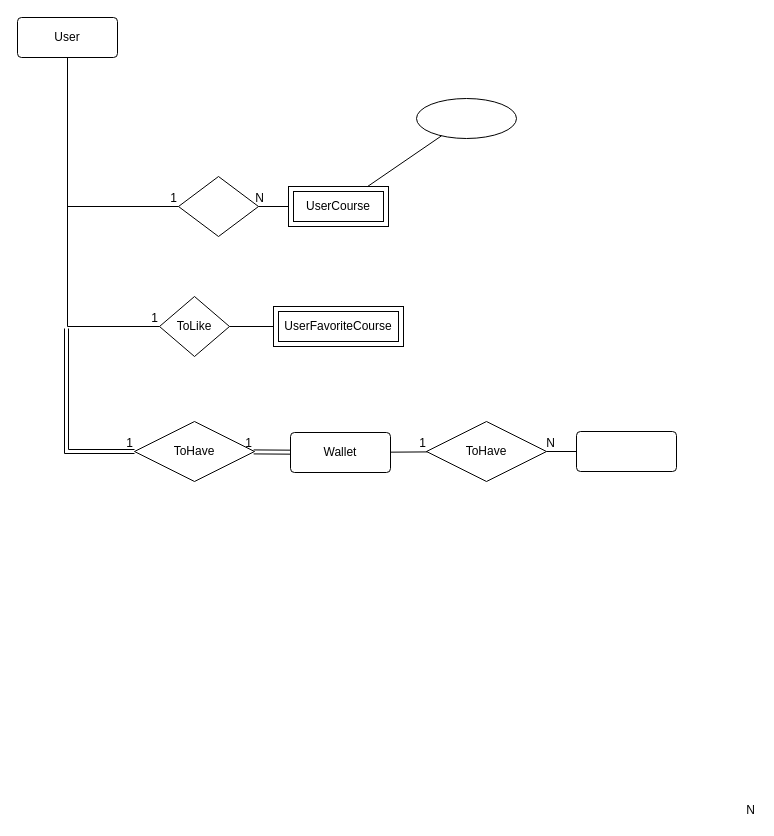
The diagram is 774 pixels wide and 836 high, and some of its shapes have lost their labels. The centre of each missing label's shape, as x and y in pixels:
"Buy" goes at pixel 218 206.
"DegreeStatus" goes at pixel 466 118.
"WalletFlow" goes at pixel 626 451.
